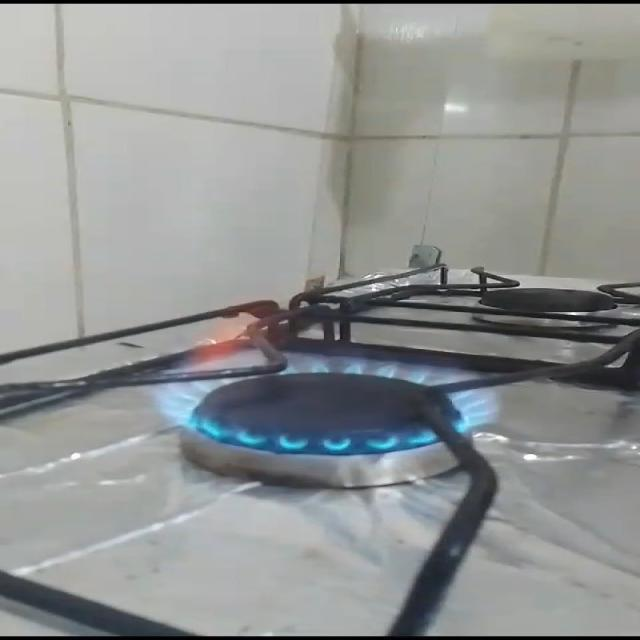fogo-ypXI: (150, 289, 502, 456)
